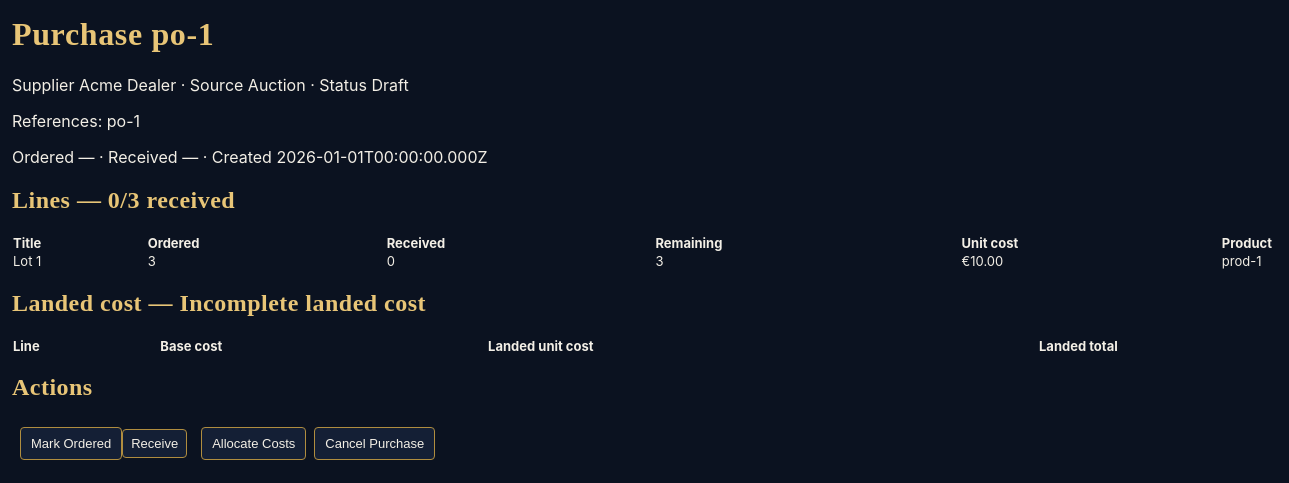
Purchase detail lifecycle actions (Sprint 57B) › requires confirmation for Mark Ordered and reloads authoritative state after success
Check: the heading "Purchase po-1" is shown, box left=12, top=16, right=214, bottom=52
Click the button "Mark Ordered" at (71, 444), box left=20, top=427, right=122, bottom=460
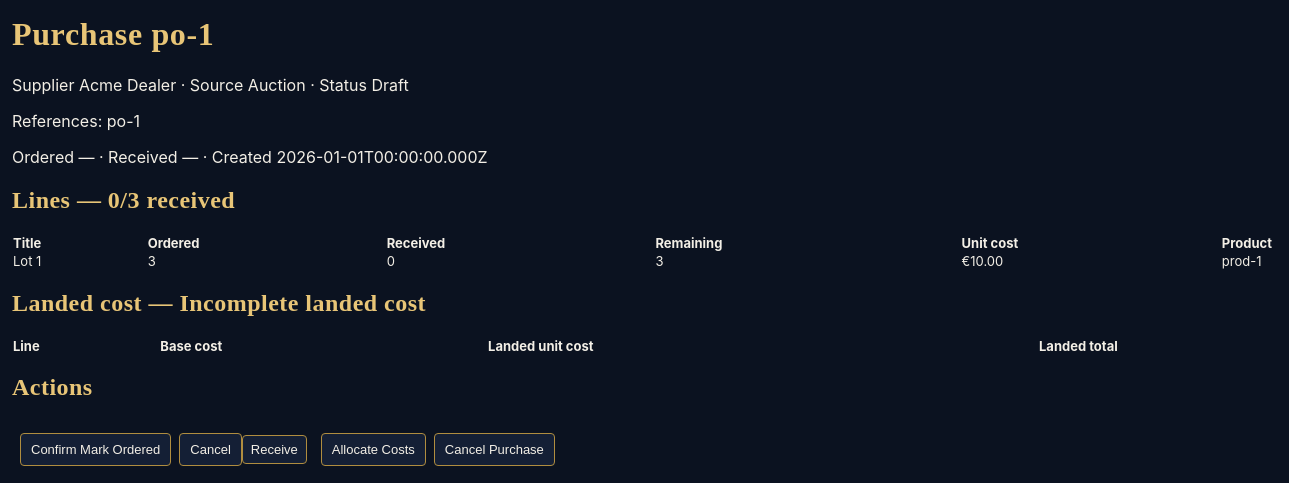
Click the button "Confirm Mark Ordered" at (96, 450), box left=20, top=433, right=171, bottom=466
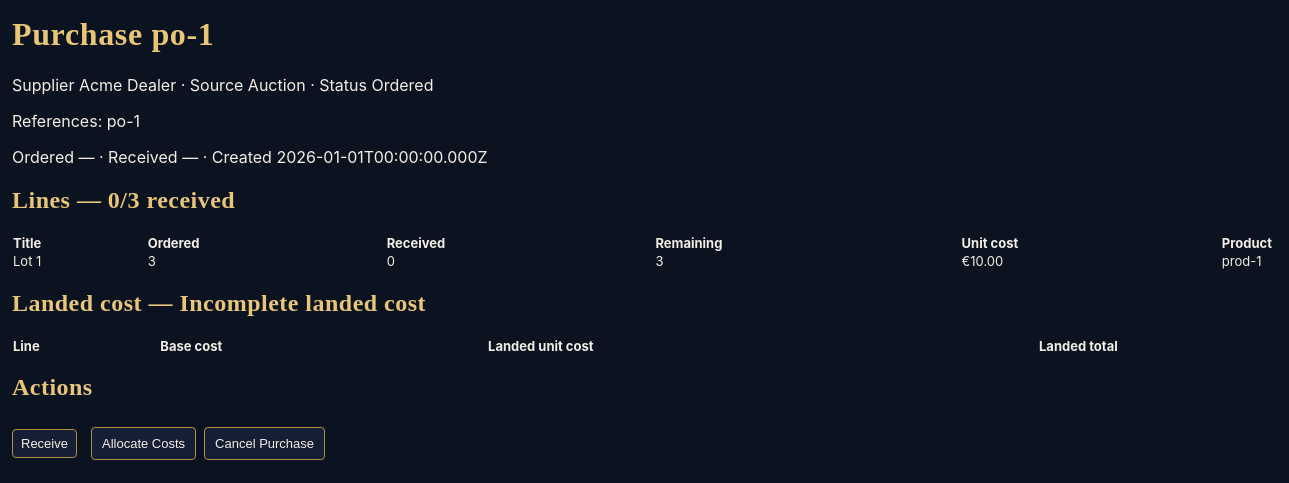
Check: the text "Supplier Acme Dealer · Source Auction · Status Ordered" is shown, box left=12, top=75, right=434, bottom=95
